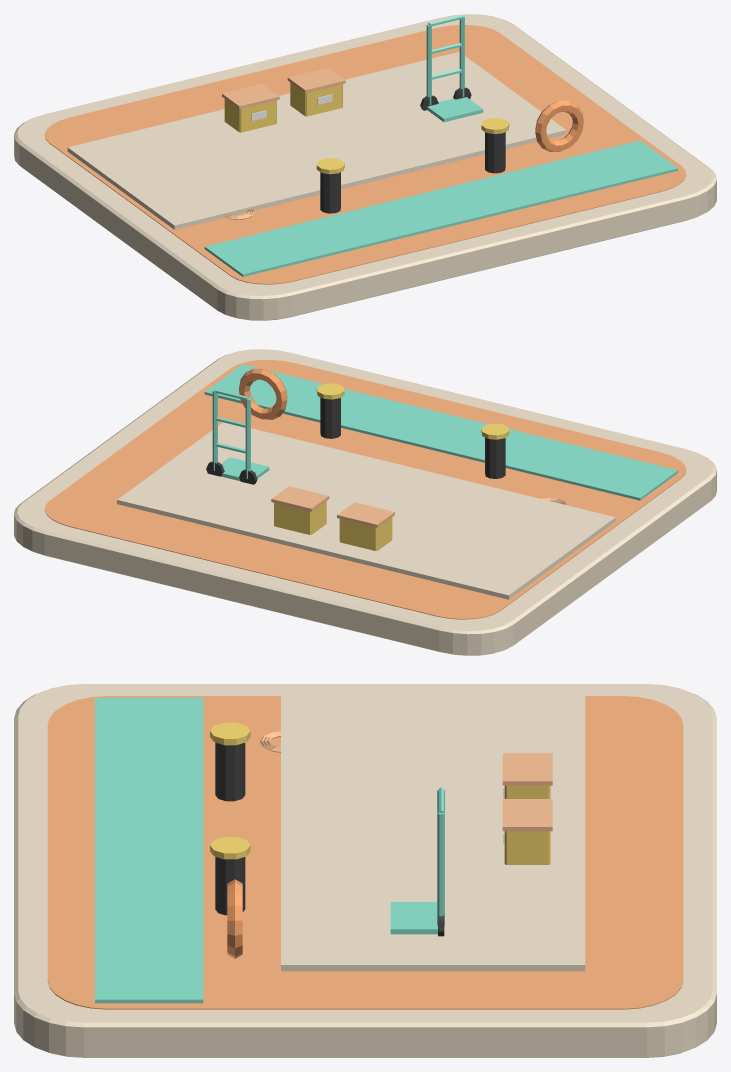
Rendered from room.fbx.
3 views of the same model, one above another, from view 1: azimuth 30°, elevation 25°; view 2: azimuth 150°, elevation 25°; view 3: azimuth 270°, elevation 25° (orthographic). The views are drawn at different scales.
Visible parts, largest first — view 1: Dock paving, COM-01 Rounded Base Direct, COM-02 Floor Surface, Water edge, Life ring, Box.001, Box, Loading plate, Lid.001, Lid, Mooring post, Mooring post.001; view 2: Dock paving, COM-02 Floor Surface, COM-01 Rounded Base Direct, Water edge, Life ring, Box, Box.001, Lid.001, Lid, Mooring post, Mooring post.001, Loading plate; view 3: Dock paving, COM-02 Floor Surface, COM-01 Rounded Base Direct, Water edge, Mooring post, Lid, Lid.001, Box.001, Loading plate, Mooring post.001, Life ring, Frame.001 (+3 smaller).
Part boxes in pixels (<box>): Dock paving: <box>67,52,566,229</box>; COM-01 Rounded Base Direct: <box>14,14,716,320</box>; COM-02 Floor Surface: <box>44,25,686,284</box>; Water edge: <box>204,140,678,276</box>; Life ring: <box>535,100,583,151</box>; Box.001: <box>290,82,342,116</box>; Box: <box>224,99,276,132</box>; Loading plate: <box>427,97,483,122</box>; Lid.001: <box>287,67,345,93</box>; Lid: <box>222,84,279,109</box>; Mooring post: <box>320,172,340,213</box>; Mooring post.001: <box>485,132,505,173</box>; Dock paving: <box>117,422,615,599</box>; COM-02 Floor Surface: <box>44,360,686,619</box>; COM-01 Rounded Base Direct: <box>14,349,716,655</box>; Water edge: <box>204,364,678,500</box>; Life ring: <box>239,368,287,419</box>; Box: <box>339,517,392,550</box>; Box.001: <box>274,501,326,534</box>; Lid.001: <box>271,486,329,511</box>; Lid: <box>337,502,394,527</box>; Mooring post: <box>485,437,505,478</box>; Mooring post.001: <box>320,397,340,438</box>; Loading plate: <box>221,457,269,481</box>; Dock paving: <box>281,693,585,971</box>; COM-02 Floor Surface: <box>47,696,683,1009</box>; COM-01 Rounded Base Direct: <box>14,684,716,1057</box>; Water edge: <box>95,697,203,1003</box>; Mooring post: <box>215,742,245,801</box>; Lid: <box>502,753,552,785</box>; Lid.001: <box>502,799,552,831</box>; Box.001: <box>504,831,550,864</box>; Loading plate: <box>390,902,437,934</box>; Mooring post.001: <box>215,857,245,915</box>; Life ring: <box>227,879,242,958</box>; Frame.001: <box>437,812,444,925</box>.
Size of the model in its own units: 600 by 134 by 520.
